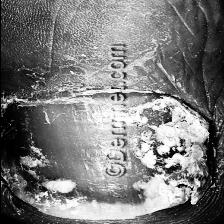Toxin: (134, 106, 206, 218), (0, 162, 83, 222)
